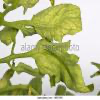Tomato leaf mosaic virus: (30, 35, 95, 93), (23, 5, 85, 43)
